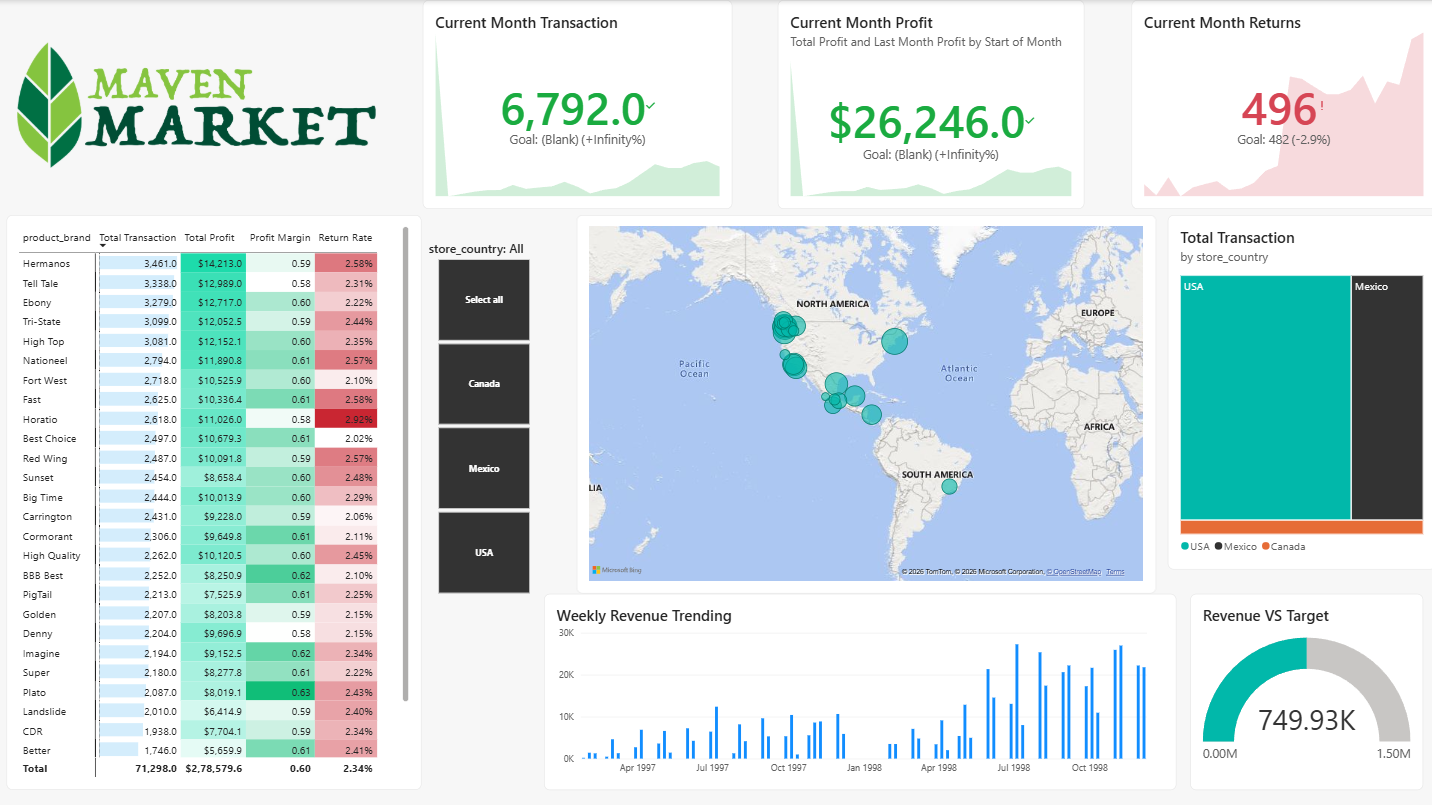

This screenshot's page, from the dashboard's own definition file:
{"tool":"powerbi","page":{"name":"Topline Performance","canvas":[1920,1080],"ordinal":0},"visuals":[{"type":"image","box":[10.7,0,503.5,279.5],"z":0},{"type":"pivotTable","fields":{"Rows":["Products.product_brand"],"Values":["Transaction_Data.Total Transaction","Transaction_Data.Total Profit","Transaction_Data.Profit Margin","Return_data.Return Rate"]},"box":[10.7,288,554.7,768],"z":1000},{"type":"kpi","title":"Current Month Transaction","fields":{"Goal":["Transaction_Data.Last Month Transactions"],"Indicator":["Transaction_Data.Total Transaction"],"TrendLine":["Calendar.Start of Month"]},"box":[565.3,0,413.9,279.5],"z":1001},{"type":"kpi","title":"Current Month Profit","fields":{"Goal":["Transaction_Data.Last Month Profit"],"Indicator":["Transaction_Data.Total Profit"],"TrendLine":["Calendar.Start of Month"]},"box":[1041.1,0,409.6,279.5],"z":1002},{"type":"kpi","title":"Current Month Returns","fields":{"Goal":["Return_data.Last Month Returns"],"Indicator":["Return_data.Total Returns"],"TrendLine":["Calendar.Start of Month"]},"box":[1512.5,0,407.5,279.5],"z":1003},{"type":"map","fields":{"Category":["Stores.store_city"],"Size":["Transaction_Data.Total Transaction"]},"box":[772.3,288,774.4,505.6],"z":1004},{"type":"slicer","fields":{"Values":["Stores.store_country"]},"box":[565.3,320,162.1,473.6],"z":1005},{"type":"treemap","fields":{"Group":["Stores.store_country","Stores.store_state","Stores.store_city"],"Values":["Transaction_Data.Total Transaction"]},"box":[1561.6,288,358.4,473.6],"z":1006},{"type":"columnChart","title":"Weekly Revenue Trending","fields":{"Category":["Calendar.Start of Week"],"Y":["Transaction_Data.Total Revenue"]},"box":[727.5,793.6,844.8,262.4],"z":1007},{"type":"gauge","title":"Revenue VS Target","fields":{"TargetValue":["Transaction_Data.Revenue Target"],"Y":["Transaction_Data.Total Revenue"]},"box":[1591.5,793.6,311.5,262.4],"z":1008}]}

Visuals, with their boxes in screenshot pixels (x1, y1, x2, y2), scaled from the page's 1920x1080 canvas onto the 1432x805 screenshot:
image: box=[8, 0, 384, 208]
pivotTable - Products.product_brand x Transaction_Data.Total Transaction: box=[8, 215, 422, 787]
"Current Month Transaction" kpi: box=[422, 0, 730, 208]
"Current Month Profit" kpi: box=[776, 0, 1082, 208]
"Current Month Returns" kpi: box=[1128, 0, 1431, 208]
map - Stores.store_city x Transaction_Data.Total Transaction: box=[576, 215, 1154, 592]
slicer - Stores.store_country: box=[422, 239, 543, 592]
treemap - Stores.store_country x Stores.store_state: box=[1165, 215, 1431, 568]
"Weekly Revenue Trending" columnChart: box=[543, 592, 1173, 787]
"Revenue VS Target" gauge: box=[1187, 592, 1419, 787]
